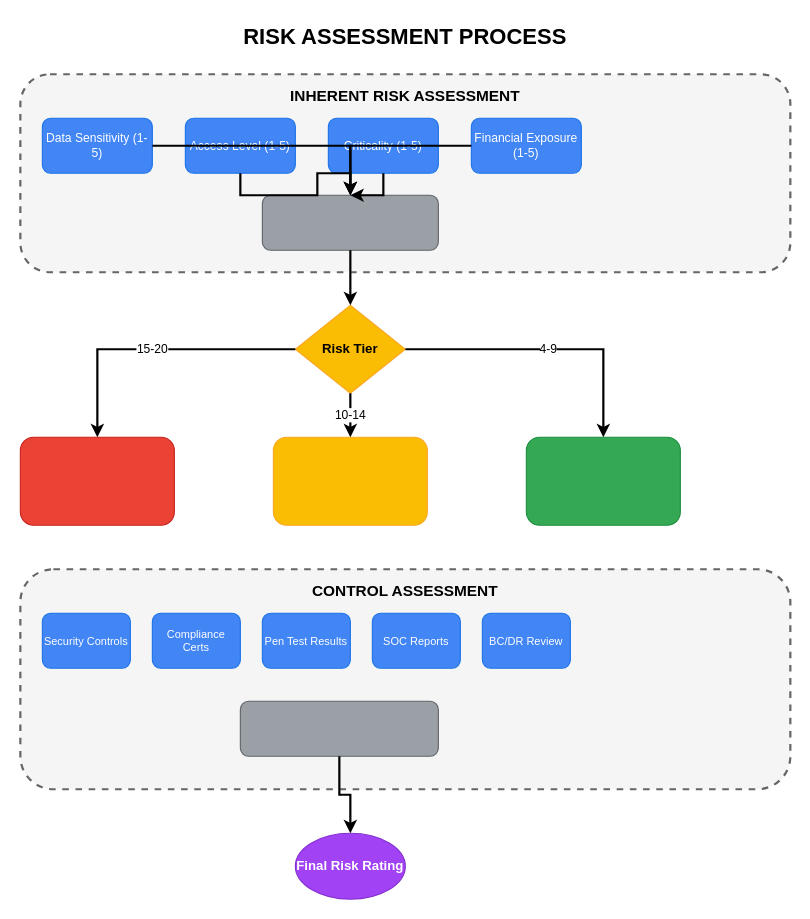
This 810x919 diagram has some shape labels left out. Each missing label, with the centre of its shape:
"Calculate Inherent Risk Score (4-20)" goes at (x=349, y=222).
"HIGH RISK (15-20) Enhanced DD Semi-annual Review" goes at (x=96, y=480).
"LOW RISK (4-9) Limited DD Biennial Review" goes at (x=602, y=480).
"MEDIUM RISK (10-14) Standard DD Annual Review" goes at (x=349, y=480).
"RESIDUAL RISK (Inherent - Controls)" goes at (x=338, y=728).
